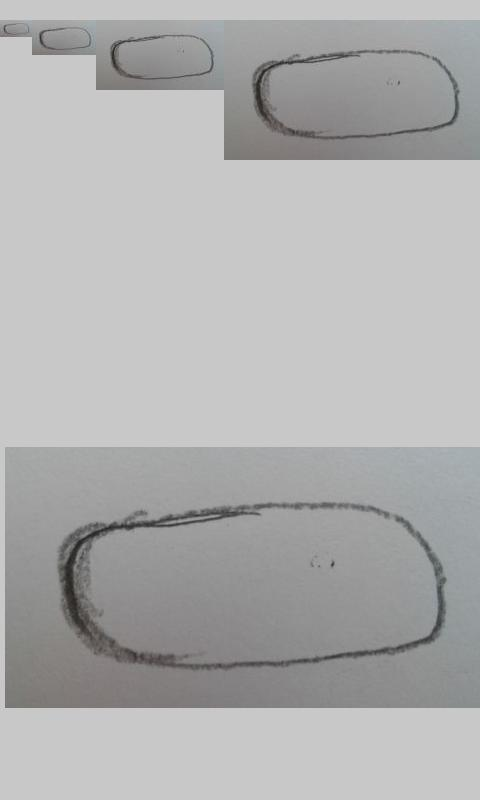chip: (55, 501, 447, 673), (251, 49, 461, 141), (110, 34, 214, 81), (39, 26, 92, 51), (4, 23, 30, 35)
